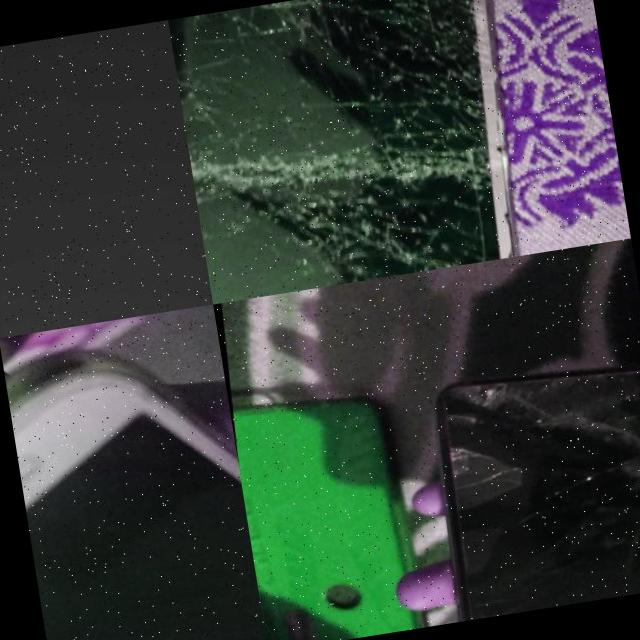screen crack: (168, 0, 552, 304), (394, 348, 579, 535)
